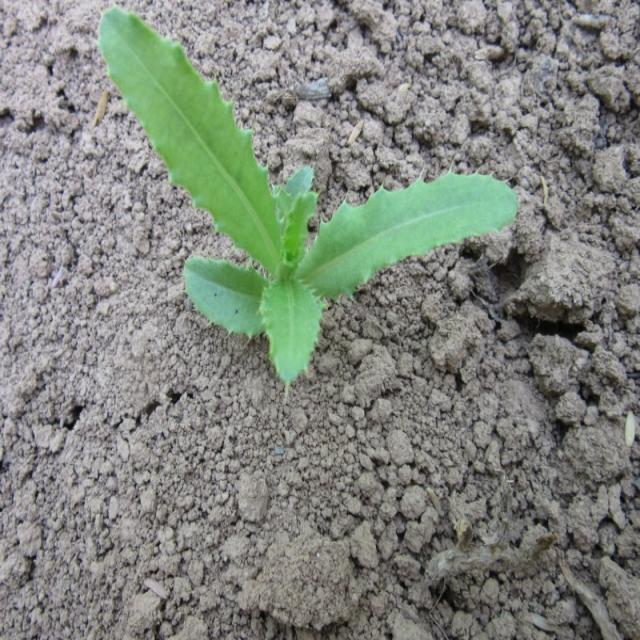field_thistle: (75, 3, 488, 429)
